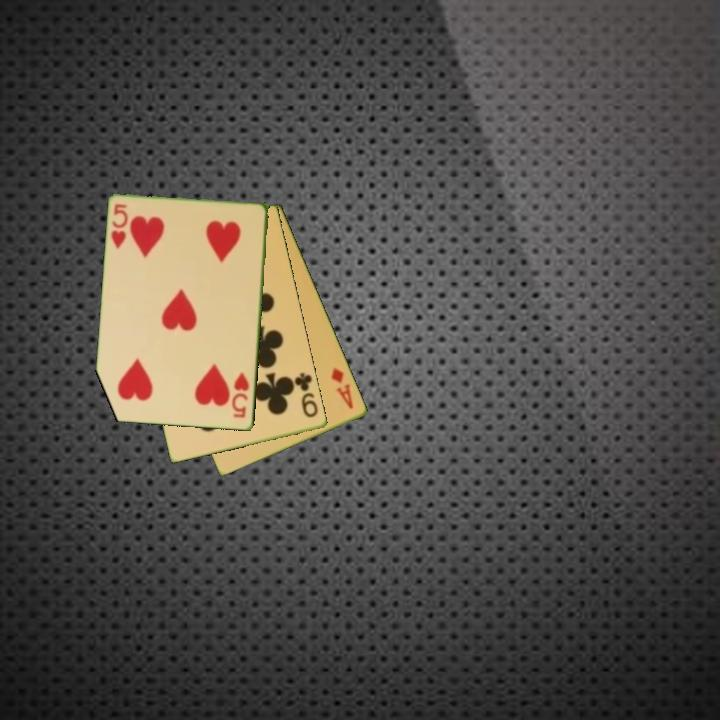5h: (229, 369, 253, 421), (108, 200, 131, 252)
9c: (291, 369, 321, 421)
Ad: (328, 364, 356, 412)
